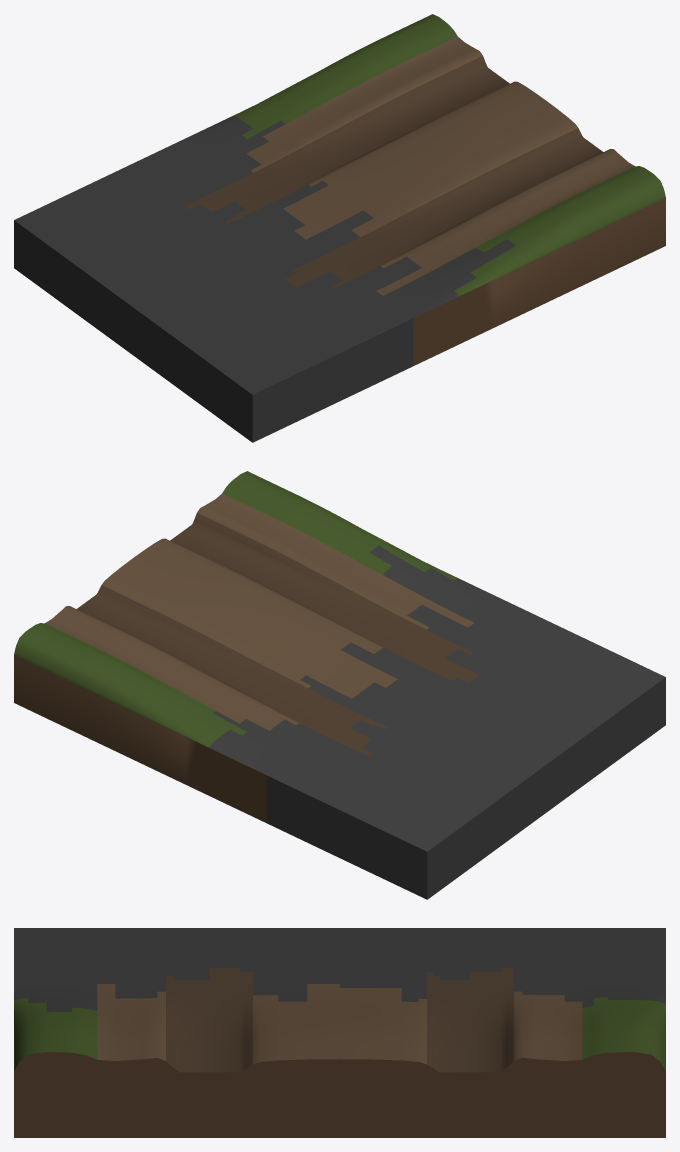
The picture shows the model from 3 angles, top to bottom: view 1: azimuth 30°, elevation 25°; view 2: azimuth 150°, elevation 25°; view 3: azimuth 270°, elevation 25°; orthographic projection. The views are drawn at different scales.
Visible parts, largest first — view 1: b1u; view 2: b1u; view 3: b1u.
Part boxes in pixels (x1=…): b1u: x1=14, y1=14, x2=665, y2=442; b1u: x1=14, y1=471, x2=665, y2=899; b1u: x1=14, y1=928, x2=665, y2=1137.
Bounding box in the file's own units: 9 × 3.31 × 9.
